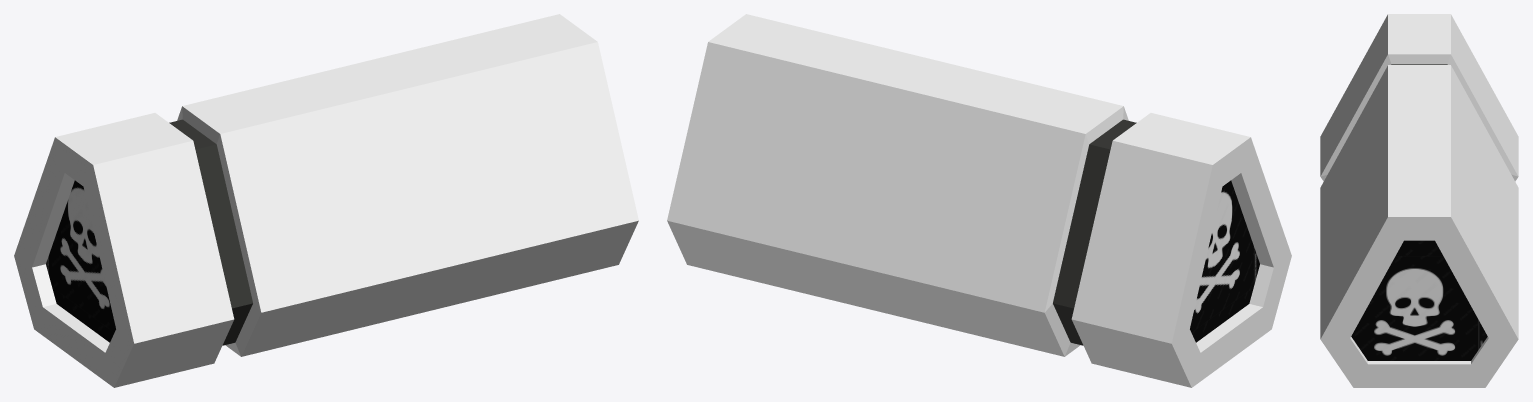
Rendered from crate_2.fbx.
3 renders of one model, left to right at view 1: azimuth 30°, elevation 25°; view 2: azimuth 150°, elevation 25°; view 3: azimuth 270°, elevation 25°, orthographic. The views are drawn at different scales.
Visible parts, largest first — view 1: polySurface1; view 2: polySurface1; view 3: polySurface1.
Part boxes in pixels (x1,y1,x2,y2): polySurface1: [14, 14, 638, 387]; polySurface1: [667, 14, 1291, 387]; polySurface1: [1320, 14, 1518, 387].
Bounding box in the file's own units: 301 × 118 × 124.
Materials: 3 (3 with a texture image).
